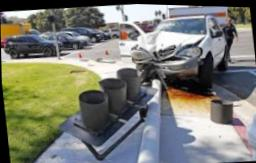Bonnet: (132, 27, 203, 49)
Bumper: (131, 58, 198, 80)
Light: (126, 44, 156, 60)
